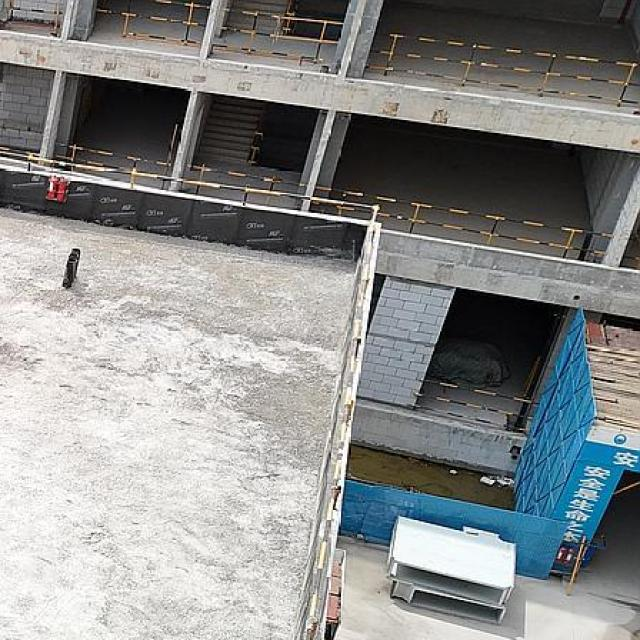edge_guardrail: (0, 138, 380, 640), (310, 183, 614, 260), (365, 28, 640, 108), (212, 6, 345, 66), (414, 377, 533, 432), (94, 0, 210, 46), (54, 140, 175, 177), (185, 162, 308, 192), (10, 6, 63, 27)
